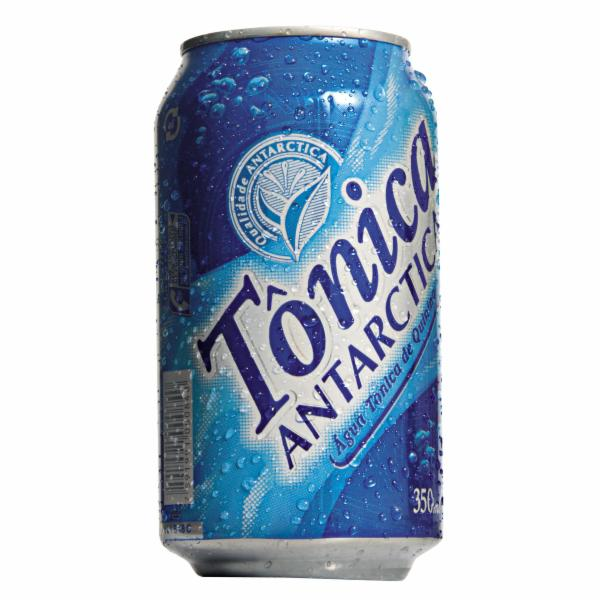tonica: (125, 27, 464, 586)
